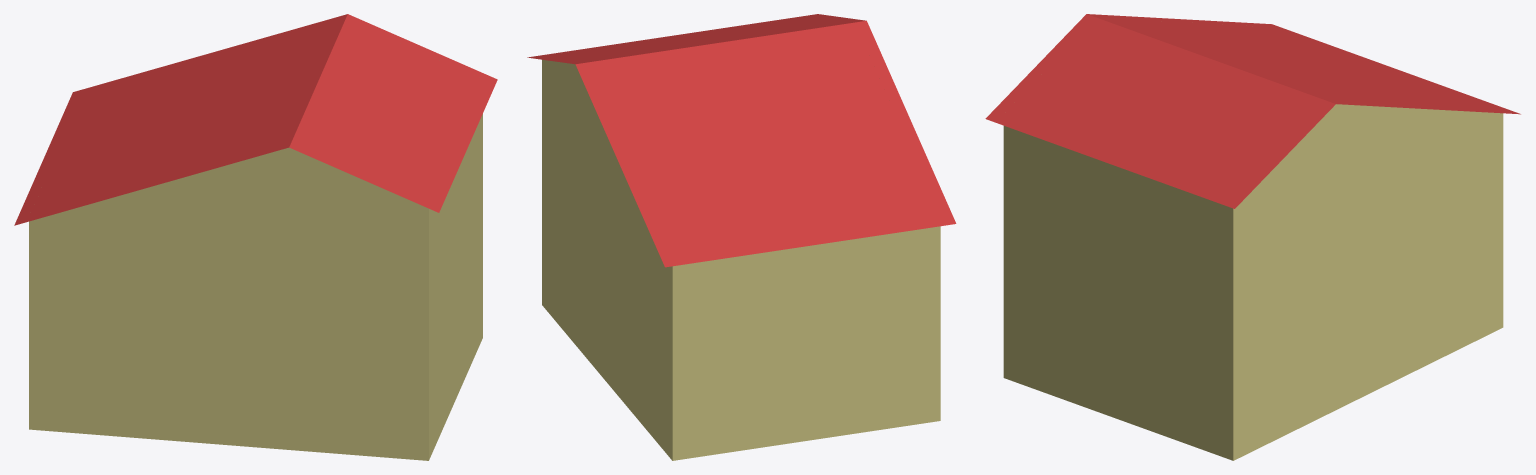
3 views of the same model, side by side, from view 1: azimuth 30°, elevation 25°; view 2: azimuth 150°, elevation 25°; view 3: azimuth 270°, elevation 25° (orthographic). The views are drawn at different scales.
Size of the model in its own units: 21.05 by 20.57 by 13.31.
